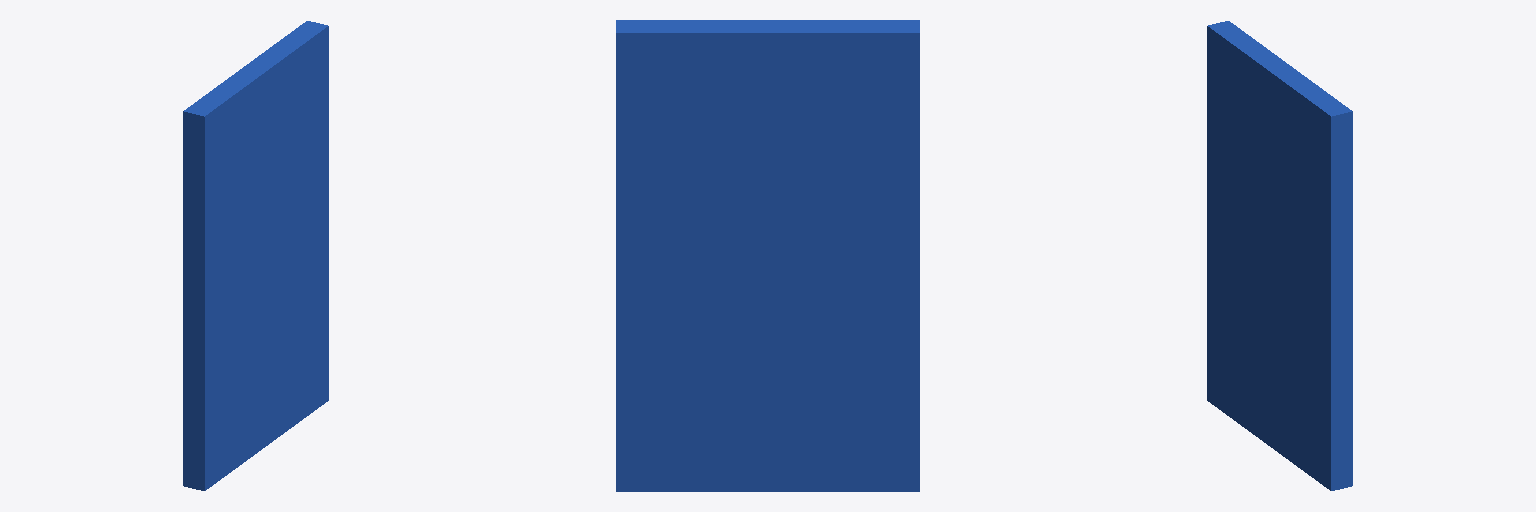
URDF robot description (Domino_11):
<robot name="Domino_11" version="1.0">
  <link name="Domino_11_link">
    <collision name="Cube.010_collision">
      <origin rpy="0.00000 0.00000 0.52360" xyz="-0.26246 0.77318 0.25000"/>
      <geometry>
        <box size="0.30000 0.03000 0.50000"/>
      </geometry>
    </collision>
    <inertial>
      <inertia ixx="0.00228" ixy="-0.00032" ixz="0.00000" iyy="0.00265" iyz="0.00000" izz="0.00076"/>
      <origin rpy="0.00000 0.00000 0.00000" xyz="-0.26246 0.77318 0.25000"/>
      <mass value="0.10000"/>
    </inertial>
    <visual name="Cube.010">
      <material name="turnarrow"/>
      <origin rpy="0.00000 0.00000 0.52360" xyz="-0.26246 0.77318 0.25000"/>
      <geometry>
        <box size="0.30000 0.03000 0.50000"/>
      </geometry>
    </visual>
  </link>
  <material name="turnarrow">
    <color rgba="0.23137 0.44706 0.80000 1.00000"/>
  </material>
</robot>

--- Facts derived from the render (not from the file) ---
3 views of the same robot in one strip: view 1: azimuth 30°, elevation 25°; view 2: azimuth 150°, elevation 25°; view 3: azimuth 270°, elevation 25° (orthographic).
Model Domino_11 with 1 links and 0 joints (none), rooted at Domino_11_link, posed every joint at zero.
Visible links, largest first — view 1: Domino_11_link; view 2: Domino_11_link; view 3: Domino_11_link.
Link boxes in pixels (x1,y1,x2,y2): Domino_11_link: (183, 21, 328, 490); Domino_11_link: (616, 20, 919, 491); Domino_11_link: (1207, 21, 1352, 490).
Bounding box of the posed robot: 0.2748 × 0.176 × 0.5 m (x, y, z).
Geometry: primitives only (box / cylinder / sphere), no mesh files.